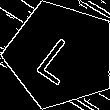L_NE: (32, 25, 90, 85)
